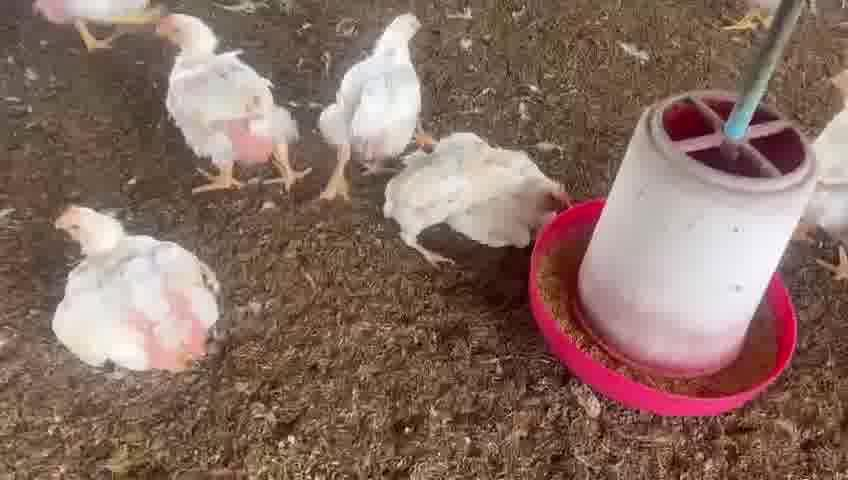AbNormal: (54, 210, 213, 371), (391, 139, 560, 250)
Normal: (157, 14, 308, 190), (320, 9, 425, 206)
